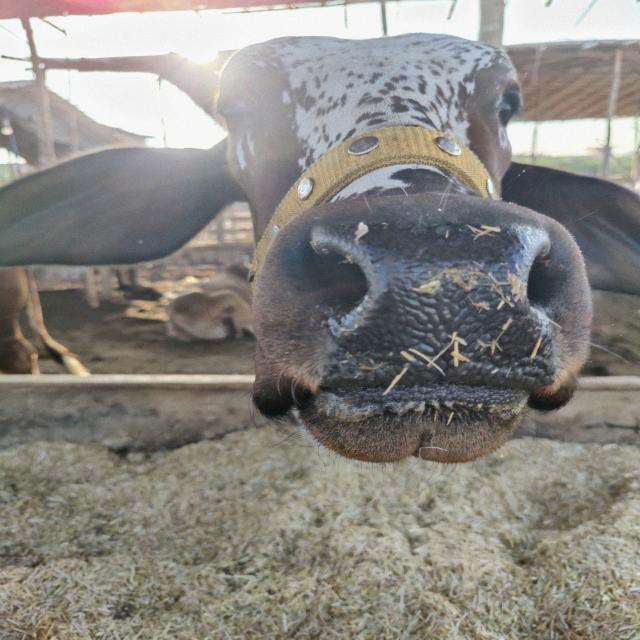muzzles: (284, 203, 578, 411)
